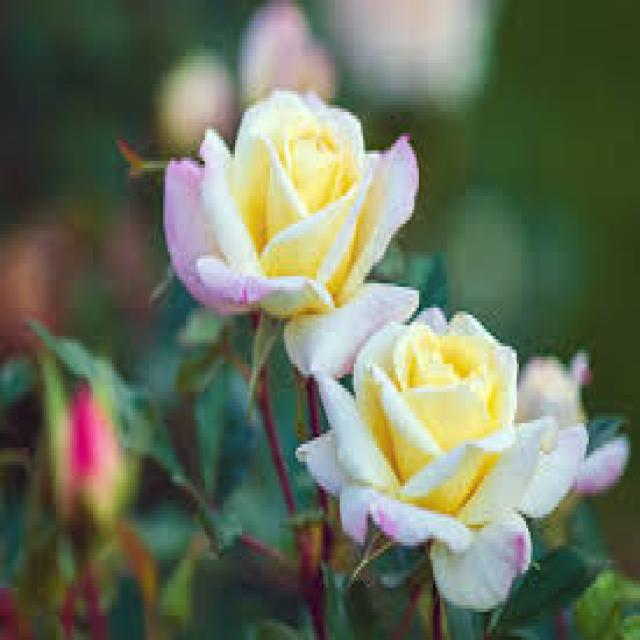rose: (152, 81, 432, 332)
